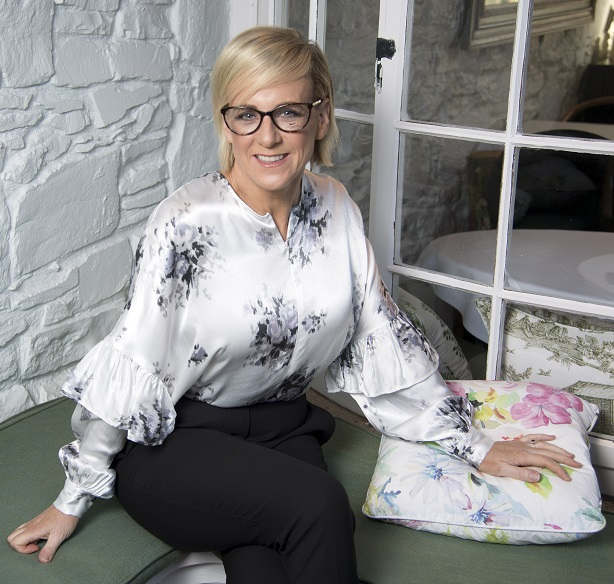sunglasses: (216, 105, 311, 132)
